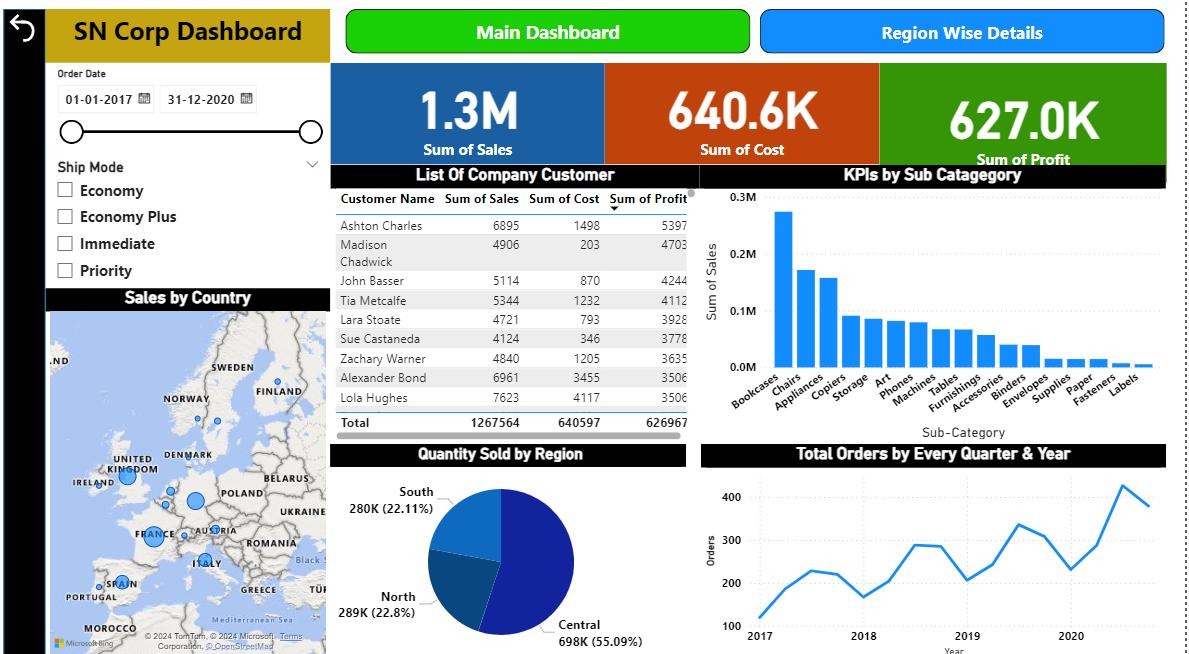

What the dashboard file says about the page in this screenshot:
{"tool":"powerbi","page":{"name":"Main Dashboard","canvas":[1280,720],"ordinal":0},"visuals":[{"type":"card","fields":{"Values":["Sum(List of Orders.Sales)"]},"box":[358.5,74.9,295.7,109.4],"z":0},{"type":"card","fields":{"Values":["Sum(List of Orders.Cost)"]},"box":[654.2,74.9,295.7,109.4],"z":1000},{"type":"card","fields":{"Values":["Sum(List of Orders.Profit)"]},"box":[949.9,74.9,309.9,129.6],"z":2000},{"type":"tableEx","title":"List Of Company Customer","fields":{"Values":["List of Orders.Customer Name","Sum(List of Orders.Sales)","Sum(List of Orders.Cost)","Sum(List of Orders.Profit)"]},"box":[358.5,184.3,399,301.8],"z":3000},{"type":"clusteredColumnChart","title":"KPIs by Sub Catagegory","fields":{"Category":["List of Orders.Sub-Category"],"Y":["Sum(List of Orders.Sales)"]},"box":[756.2,184.6,503.6,301.2],"z":4000},{"type":"lineChart","title":"Total Orders by Every Quarter & Year","fields":{"Y":["CountNonNull(List of Orders.Order ID)"],"Category":["List of Orders.Order Date.Variation.Date Hierarchy.Year","List of Orders.Order Date.Variation.Date Hierarchy.Quarter"]},"box":[757.8,485.8,502,234.8],"z":5000},{"type":"pieChart","title":"Quantity Sold by Region","fields":{"Category":["List of Orders.Region"],"Y":["Sum(List of Orders.Sales)"]},"box":[341.7,485.8,399.9,234.8],"z":6000},{"type":"map","title":"Sales by Country","fields":{"Category":["List of Orders.Country"],"Size":["Sum(List of Orders.Sales)"]},"box":[50.2,317.4,307.7,403.2],"z":7000},{"type":"slicer","fields":{"Values":["List of Orders.Ship Mode"]},"box":[50.2,171.6,307.7,145.7],"z":8000},{"type":"slicer","fields":{"Values":["List of Orders.Order Date"]},"box":[50.2,74.5,307.7,97.2],"z":9000},{"type":"textbox","box":[50.2,16.2,307.7,58.3],"z":10000},{"type":"shape","box":[4.9,16.2,45.3,704.4],"z":11000},{"type":"actionButton","box":[4.9,16.2,45.3,40.5],"z":12000},{"type":"pageNavigator","box":[374.7,16.2,885.1,48.6],"z":13000}]}

Visuals, with their boxes in screenshot pixels (x1, y1, x2, y2):
card - Sum(List of Orders.Sales): 329, 60, 604, 162
card - Sum(List of Orders.Cost): 604, 60, 878, 162
card - Sum(List of Orders.Profit): 878, 60, 1166, 180
"List Of Company Customer" tableEx: 329, 162, 700, 442
"KPIs by Sub Catagegory" clusteredColumnChart: 698, 162, 1166, 441
"Total Orders by Every Quarter & Year" lineChart: 700, 441, 1166, 653
"Quantity Sold by Region" pieChart: 314, 441, 685, 653
"Sales by Country" map: 43, 285, 329, 653
slicer - List of Orders.Ship Mode: 43, 150, 329, 285
slicer - List of Orders.Order Date: 43, 60, 329, 150
textbox: 43, 6, 329, 60
shape: 1, 6, 43, 653
actionButton: 1, 6, 43, 43
pageNavigator: 345, 6, 1166, 51
